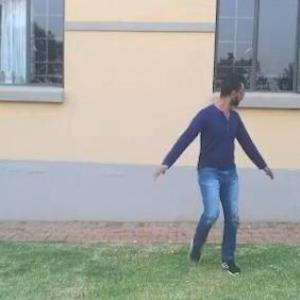land: (155, 59, 282, 278)
